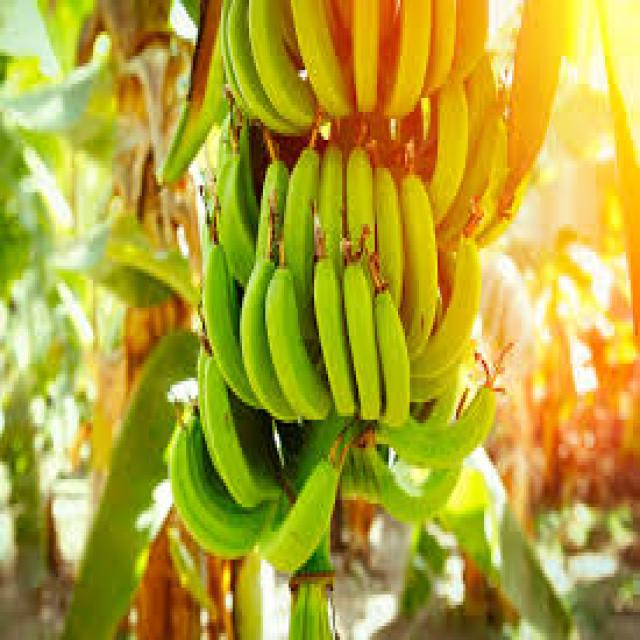banana: (172, 0, 498, 525)
